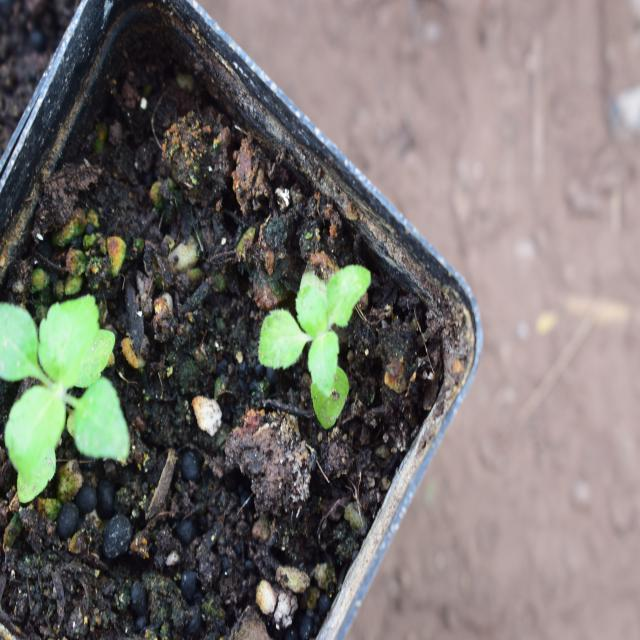billygoat_weed: (0, 301, 151, 497), (240, 234, 376, 424)
